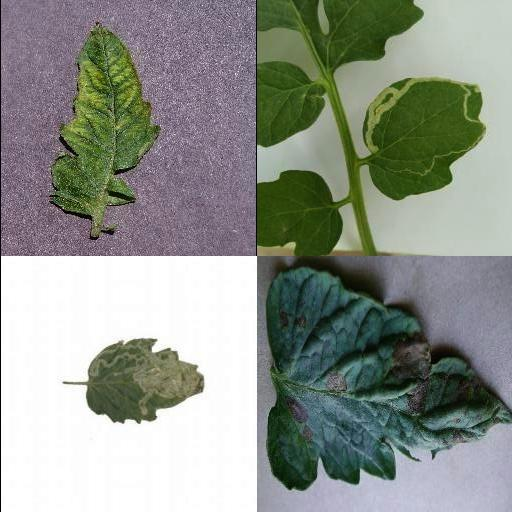Early Blight: (267, 265, 512, 492)
Leaf Miner: (361, 76, 484, 202), (84, 335, 204, 425)
Mosaic Virus: (49, 20, 161, 218)
